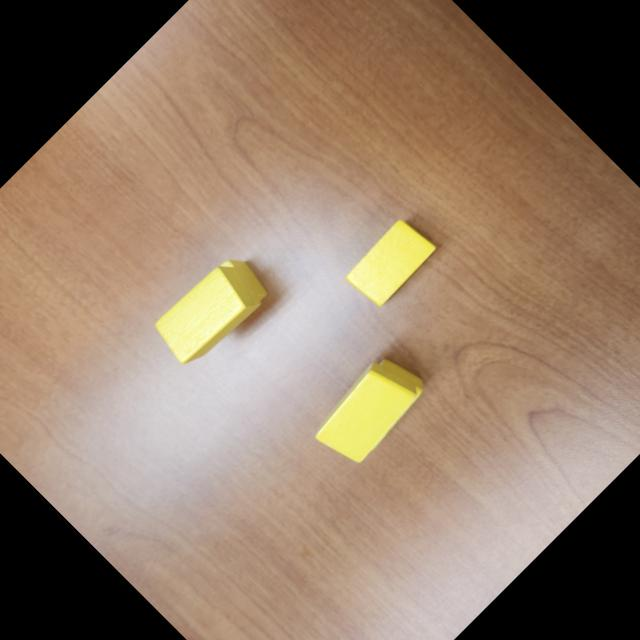yellow: (304, 352, 426, 474), (148, 254, 266, 373), (330, 348, 434, 452), (340, 212, 440, 312), (204, 250, 273, 318)
